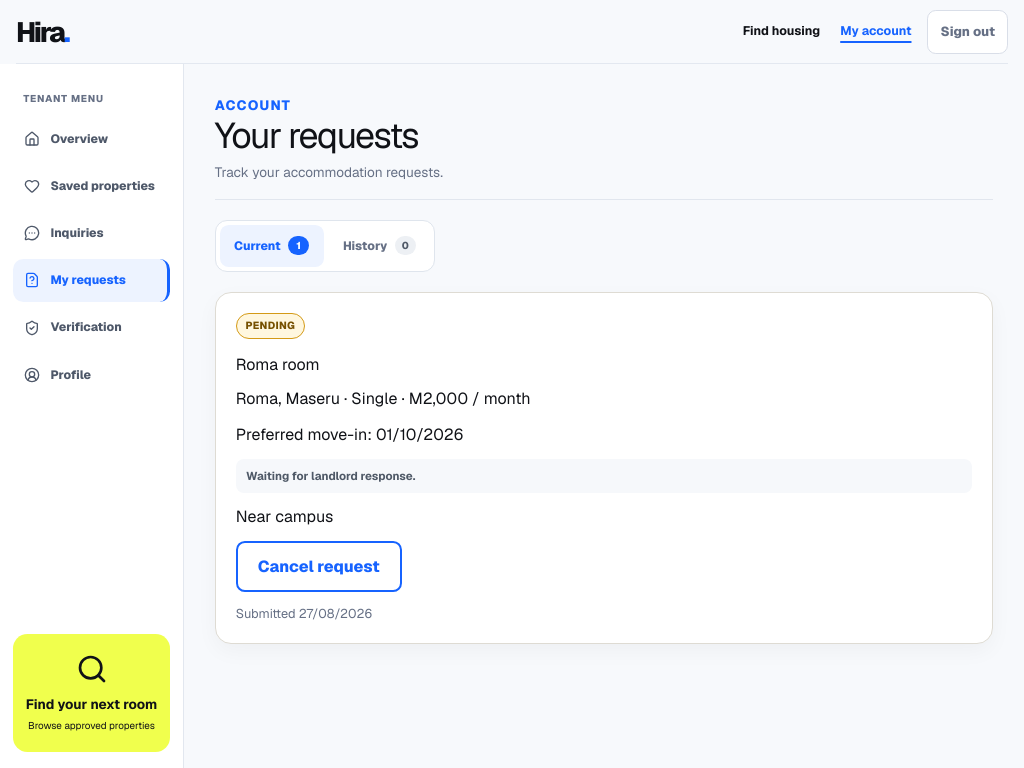
it: RequestList › lets a tenant cancel a PENDING owned request
What coordinates should you click on to do the following:
click the button "Cancel request"
I would click on:
 (319, 567)
Its box is [236,541,402,592].
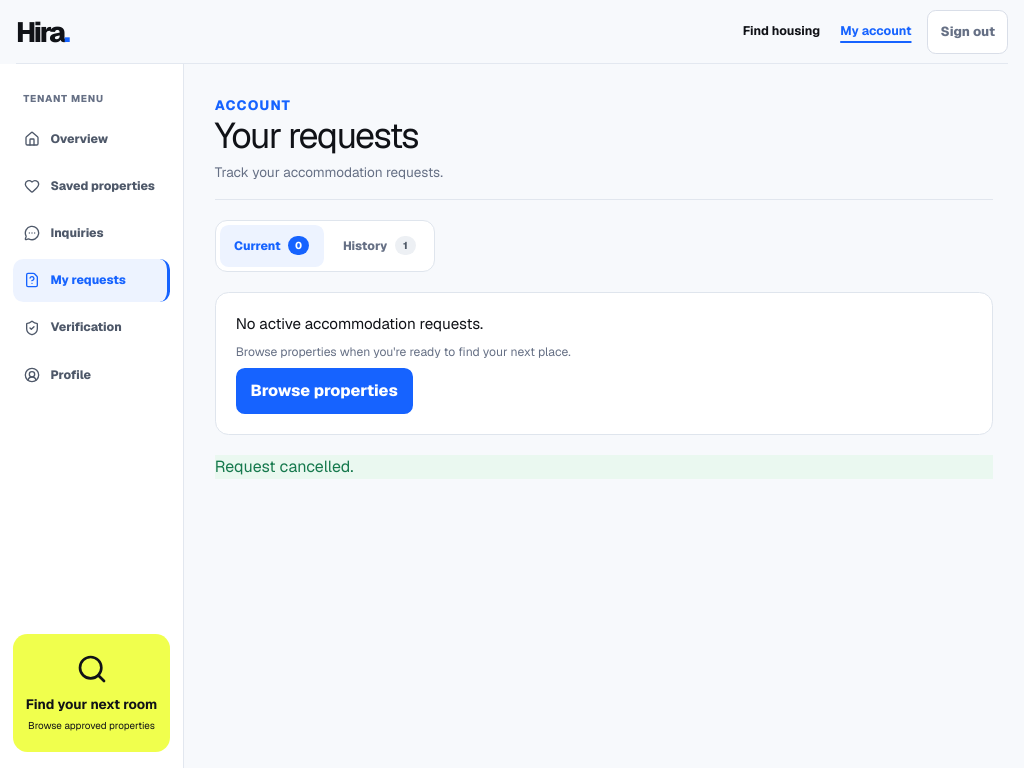
Now the text "Request cancelled." is shown, box [215,455,993,479]
What coordinates should you click on to do the following:
click the tab "History 1"
I would click on:
 (380, 246)
Its box is [328,224,430,267].
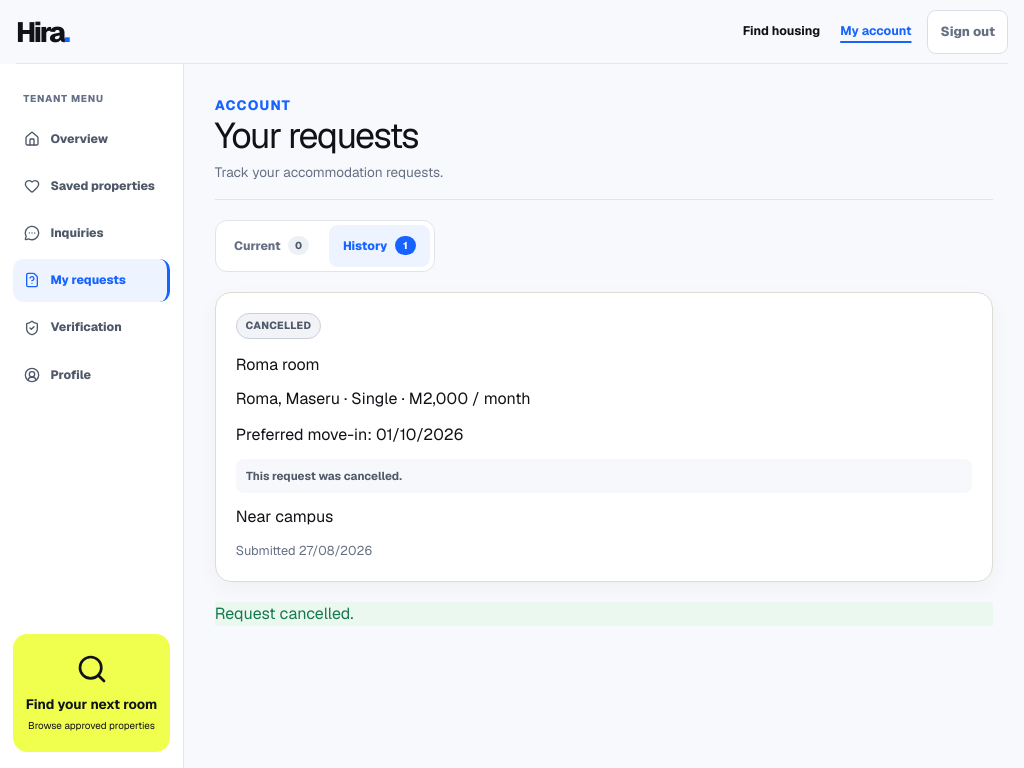
Expected: the button "Cancel request" is not shown
Now the text "CANCELLED" is shown, box [236,313,321,339]
